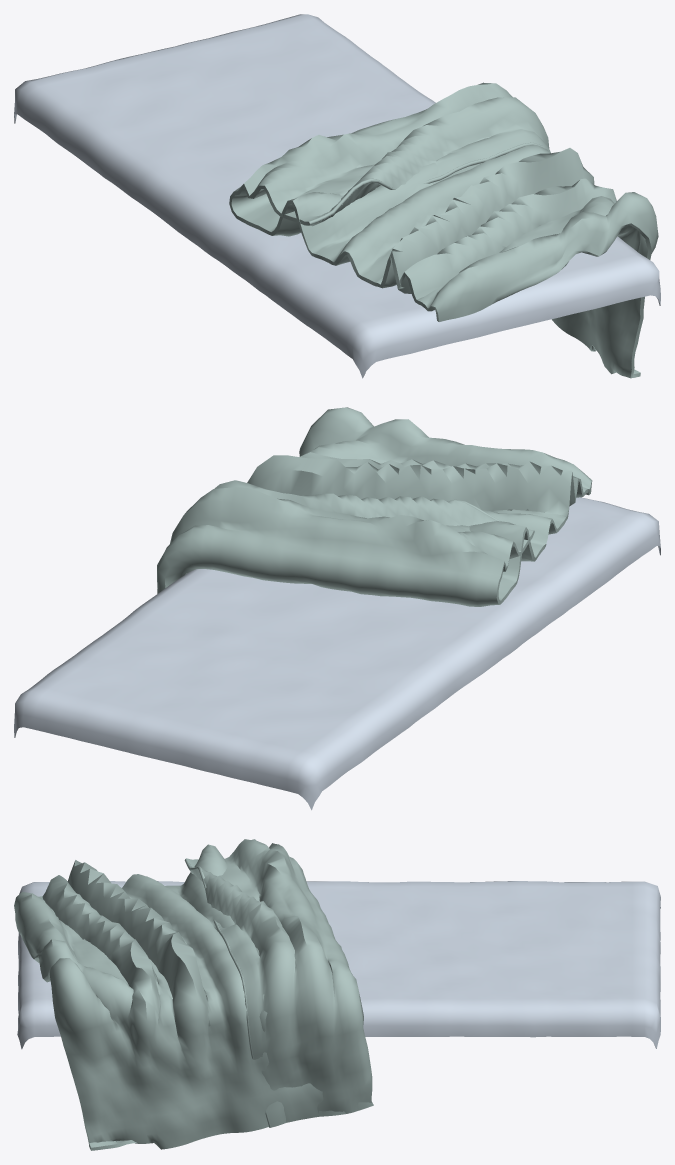
Rendered from textiles_bedding_messy.fbx.
3 views of the same model, one above another, from view 1: azimuth 30°, elevation 25°; view 2: azimuth 150°, elevation 25°; view 3: azimuth 270°, elevation 25° (orthographic). The views are drawn at different scales.
Visible parts, largest first — view 1: textiles_bedding_messy; view 2: textiles_bedding_messy; view 3: textiles_bedding_messy.
Boxes of the visible parts, x1,y1,x2,y2 form: textiles_bedding_messy: (14, 14, 660, 378); textiles_bedding_messy: (14, 407, 660, 810); textiles_bedding_messy: (14, 839, 660, 1150).
Size of the model in its own units: 1.13 by 0.7271 by 2.11.
